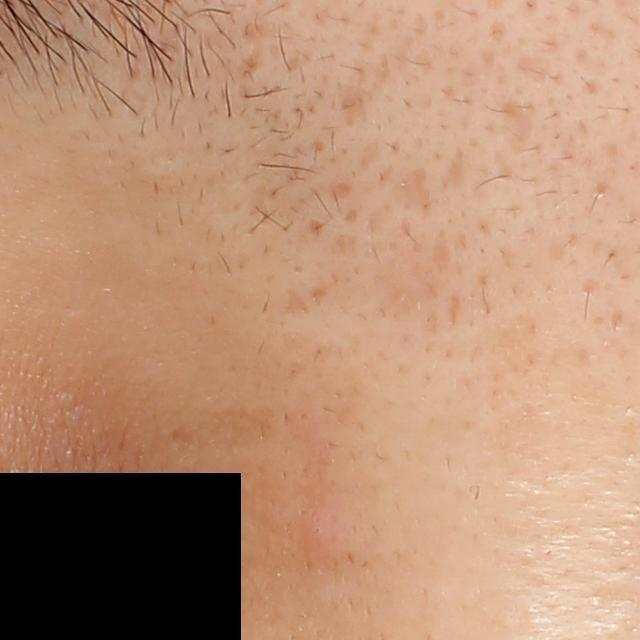atrophic_scar: (496, 95, 539, 156), (338, 55, 370, 134), (395, 167, 431, 217), (440, 146, 474, 196), (428, 227, 451, 277)
